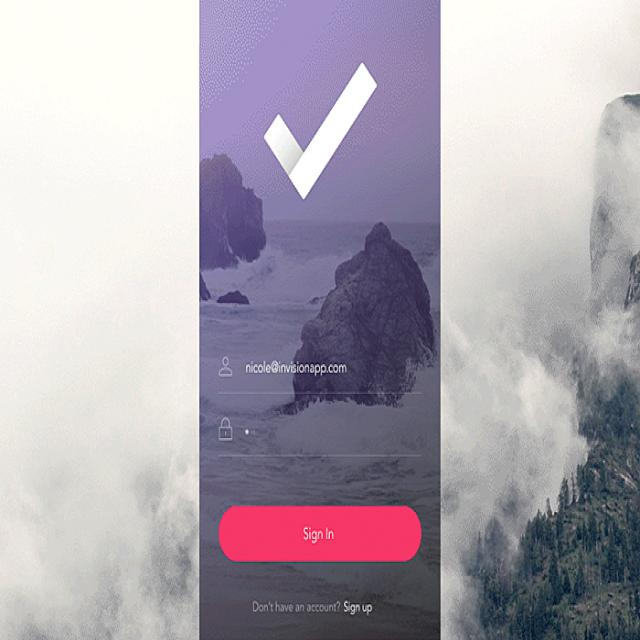Button: (217, 500, 421, 566)
Container: (196, 0, 443, 640)
Image: (252, 53, 382, 215)
Input-field: (210, 416, 427, 466), (213, 353, 423, 402)
Text: (249, 596, 376, 622)
